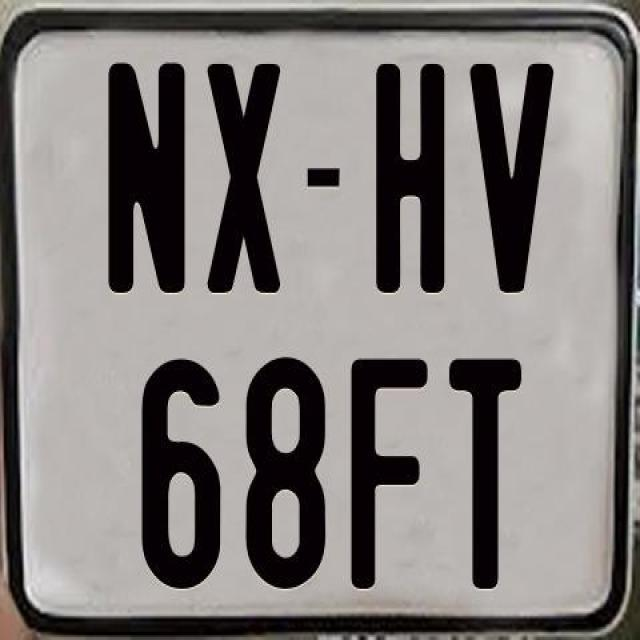6: (139, 359, 225, 599)
8: (241, 355, 327, 593)
F: (348, 357, 430, 592)
H: (375, 64, 445, 294)
N: (107, 61, 191, 299)
T: (450, 354, 526, 584)
V: (466, 64, 554, 302)
X: (205, 61, 279, 298)
